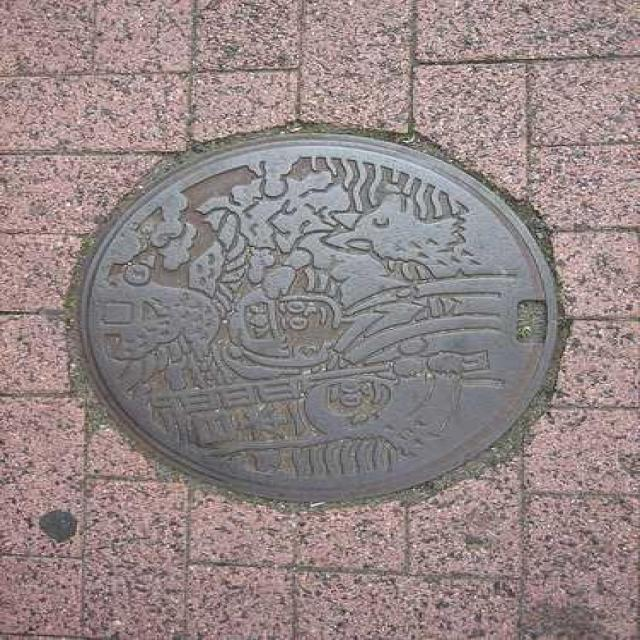manhole: (78, 130, 558, 501)
